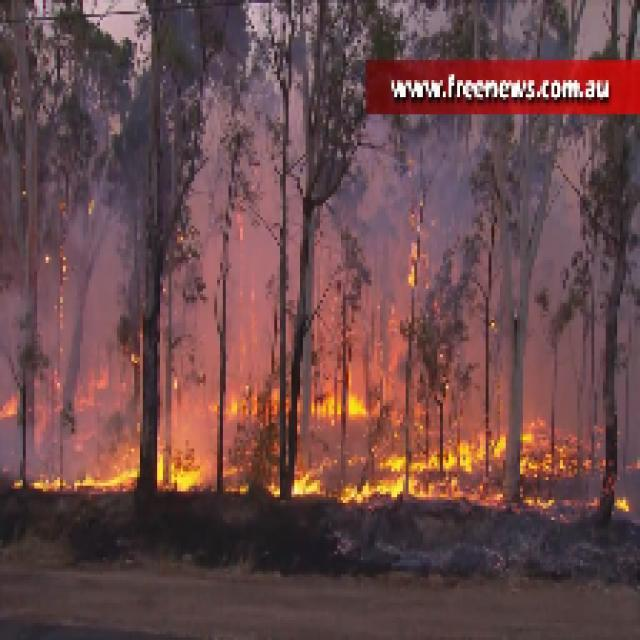Fire: (343, 434, 506, 500), (28, 454, 140, 494), (154, 437, 200, 492)
Smoke: (186, 77, 303, 337), (543, 152, 640, 418), (340, 126, 486, 260), (77, 80, 146, 360)
